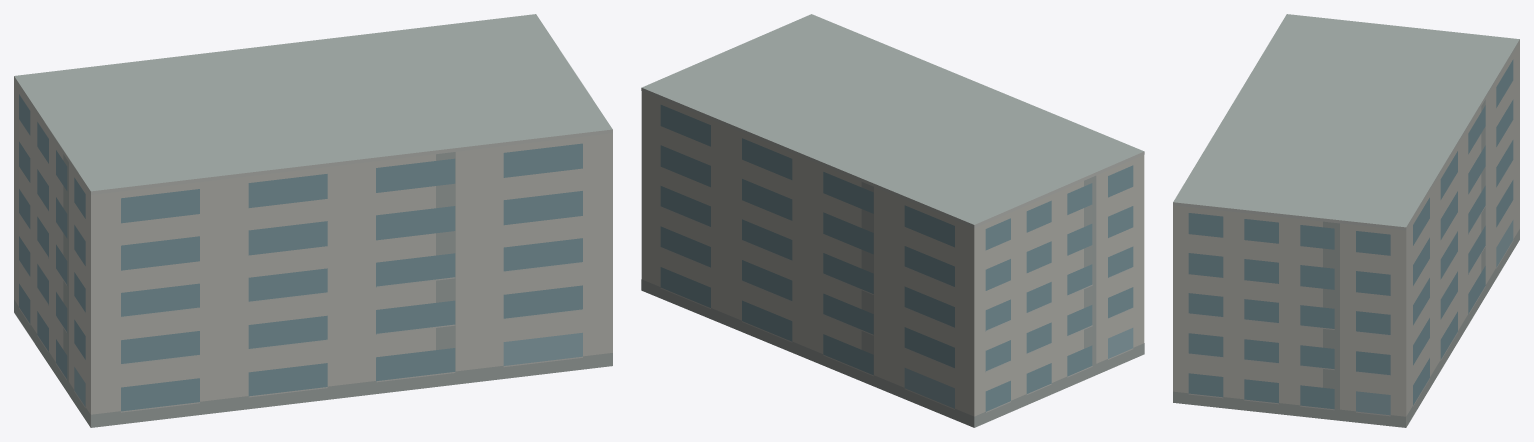
Rendered from residential-8b1bf96e-8f6d-45ea-99b0-6787b04aa82b.glb.
3 renders of one model, left to right at view 1: azimuth 30°, elevation 25°; view 2: azimuth 150°, elevation 25°; view 3: azimuth 270°, elevation 25°, orthographic. The views are drawn at different scales.
Parts seen in each view (by area): view 1: residential-8b1bf96e-8f6d-45ea-99b0-6787b04aa82b.tmp; view 2: residential-8b1bf96e-8f6d-45ea-99b0-6787b04aa82b.tmp; view 3: residential-8b1bf96e-8f6d-45ea-99b0-6787b04aa82b.tmp.
Part boxes in pixels (<box>): residential-8b1bf96e-8f6d-45ea-99b0-6787b04aa82b.tmp: <box>14,14,612,427</box>; residential-8b1bf96e-8f6d-45ea-99b0-6787b04aa82b.tmp: <box>641,14,1144,427</box>; residential-8b1bf96e-8f6d-45ea-99b0-6787b04aa82b.tmp: <box>1173,14,1519,427</box>.
Size of the model in its own units: 34.81 by 15.25 by 23.91.
